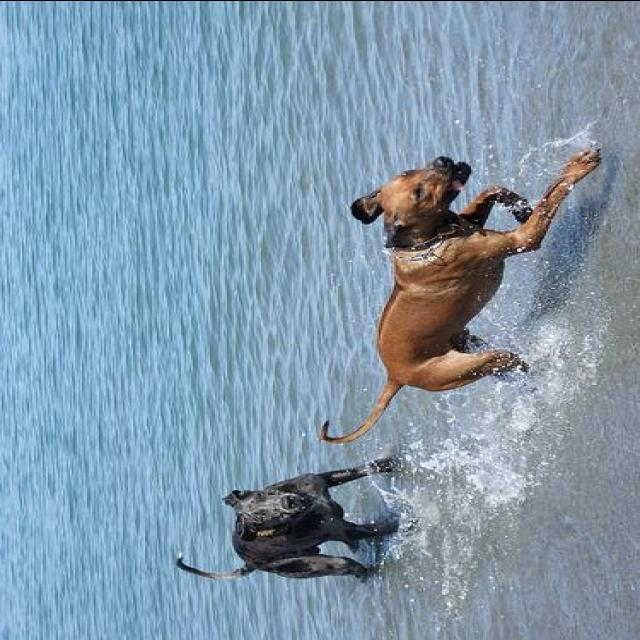rhodesian_ridgeback: (314, 144, 602, 446), (168, 453, 400, 581)
